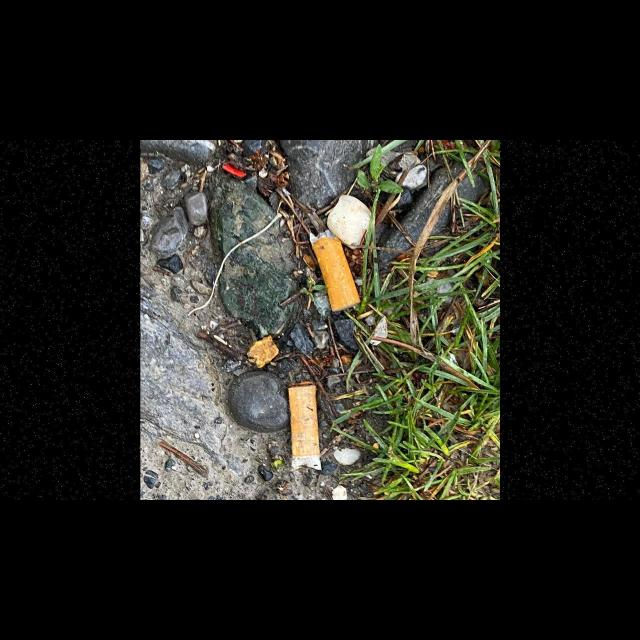cigarette: (308, 229, 361, 313), (287, 381, 322, 471)
